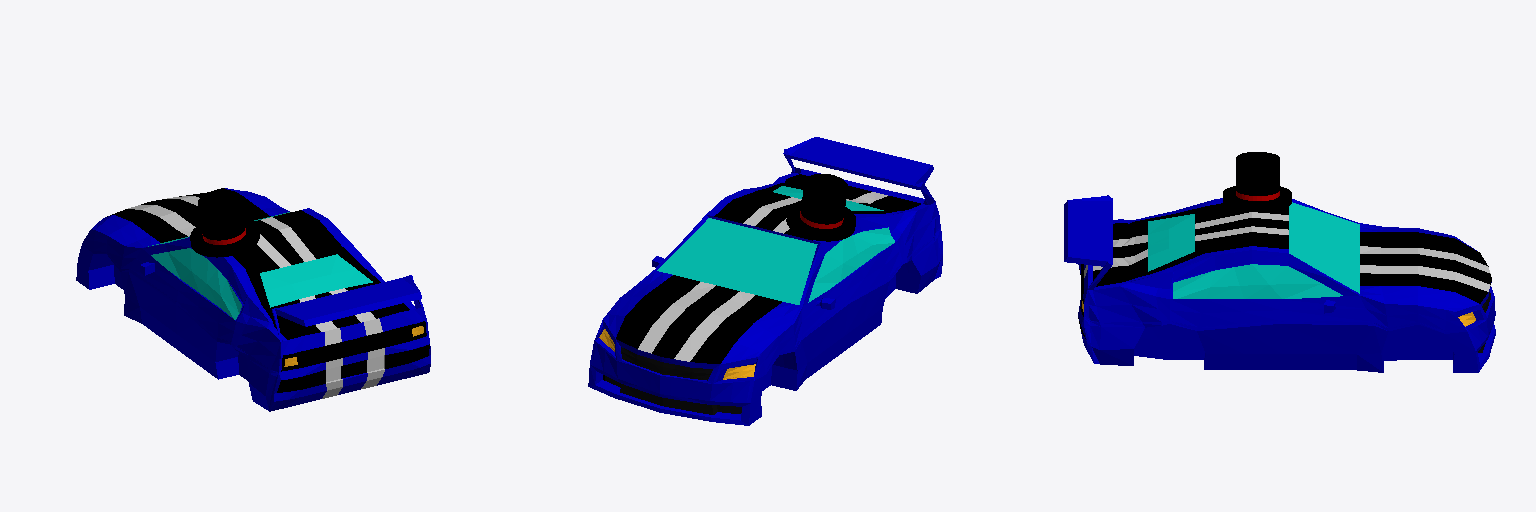
File: arabagüncelleme.obj
3 renders of one model, left to right at view 1: azimuth 30°, elevation 25°; view 2: azimuth 150°, elevation 25°; view 3: azimuth 270°, elevation 25°, orthographic.
Visible parts, largest first — view 1: araba, araba.001; view 2: araba, araba.001; view 3: araba, araba.001.
Boxes of the visible parts, x1,y1,x2,y2 form: araba: [76, 188, 430, 411]; araba.001: [190, 190, 259, 257]; araba: [588, 137, 942, 425]; araba.001: [786, 174, 855, 241]; araba: [1064, 195, 1495, 372]; araba.001: [1223, 152, 1291, 211].
Size of the model in its own units: 2.19 by 1.82 by 4.59.